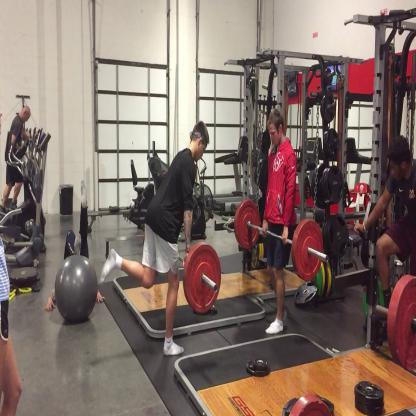Barbell: (181, 237, 225, 317), (292, 208, 327, 283), (231, 193, 263, 256)
